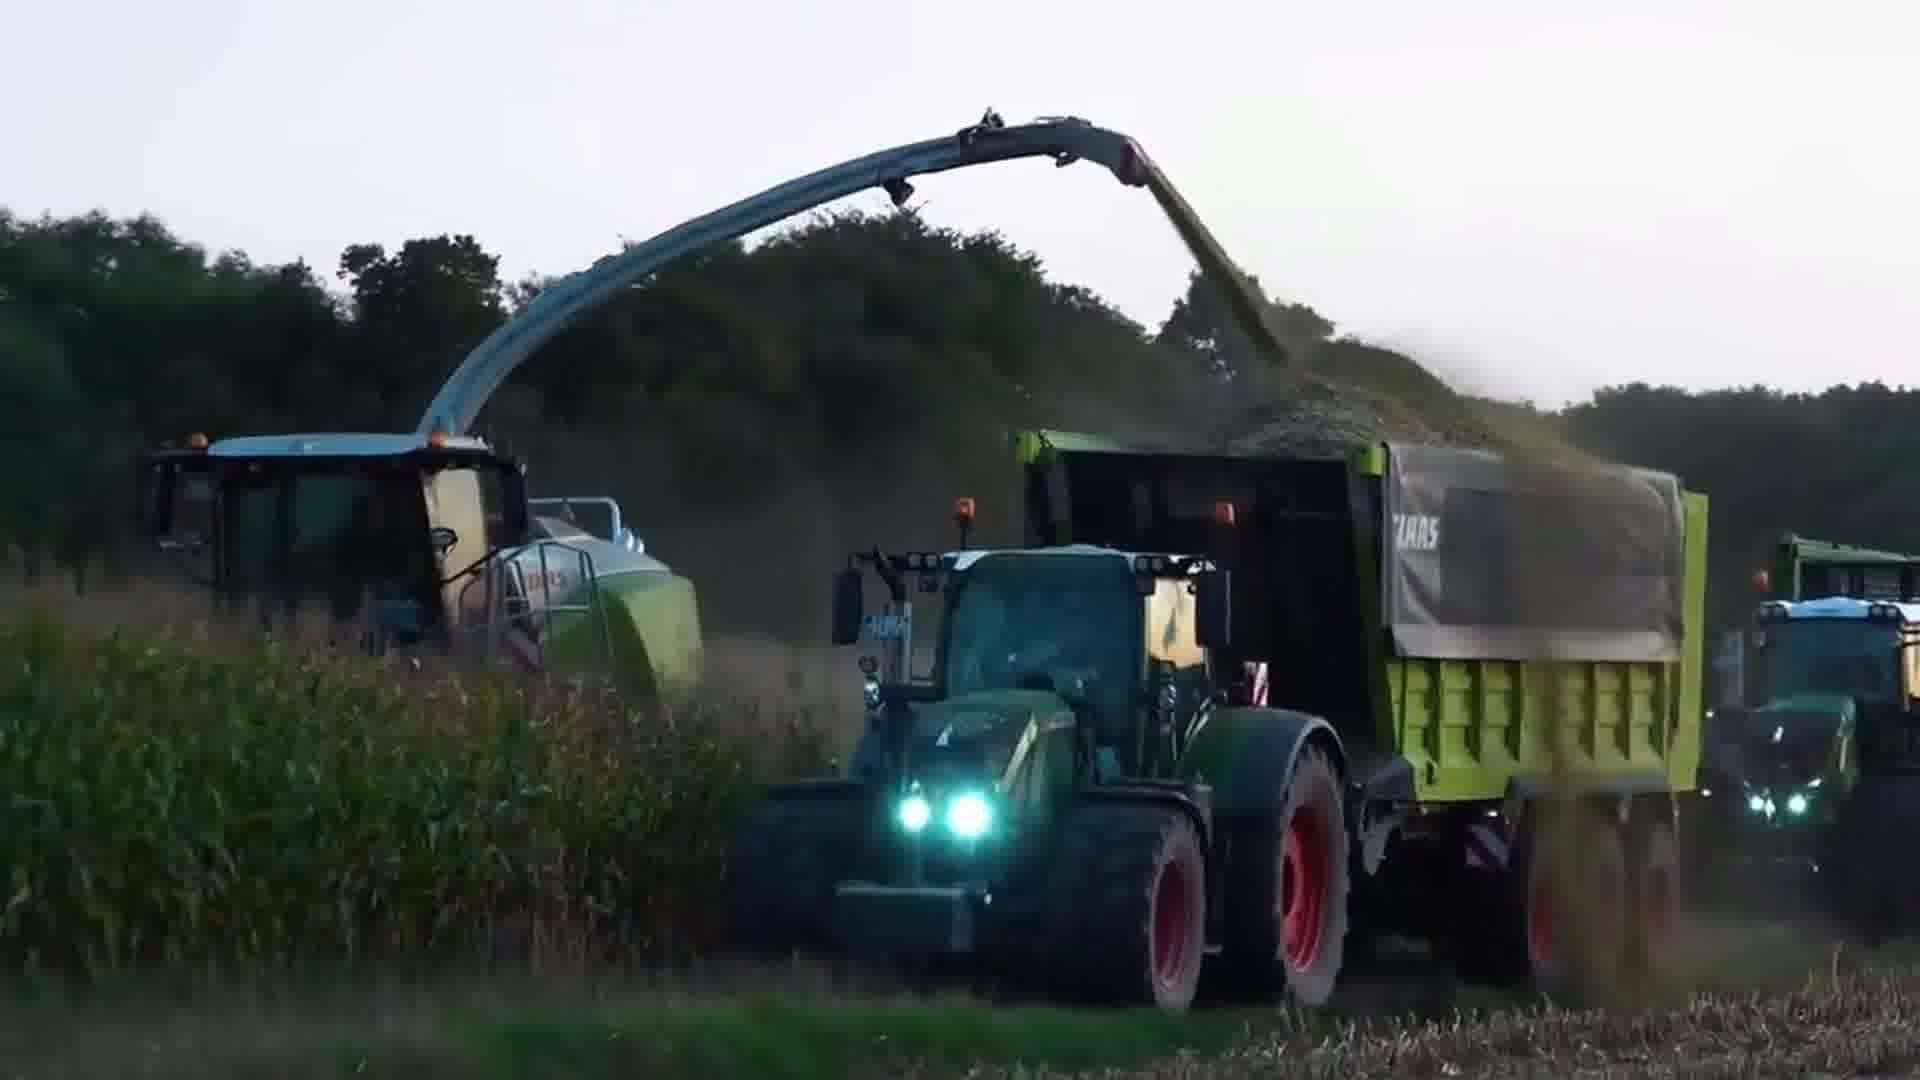combine harvester: (121, 103, 1168, 708)
tractor: (720, 487, 1364, 1029)
trailer: (1009, 413, 1721, 997), (1684, 587, 1920, 948)
